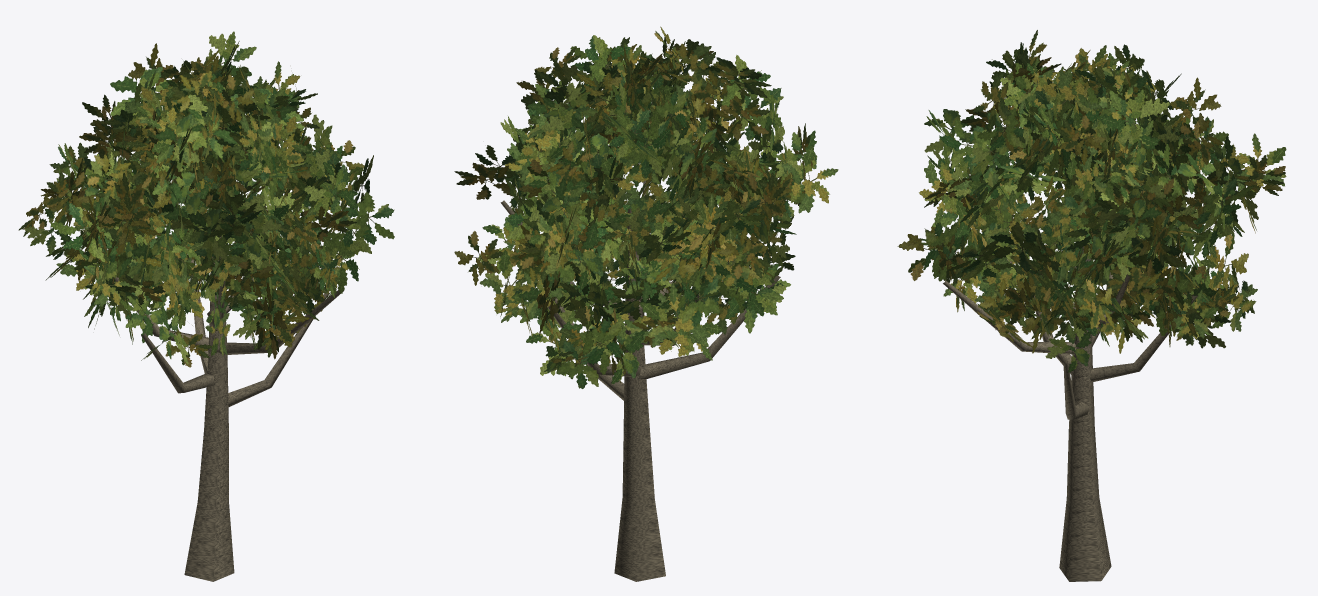
The model's file is PROJECT_Z_Temperate_Oak_Tree_LOD2.glb.
3 views of the same model, side by side, from view 1: azimuth 30°, elevation 25°; view 2: azimuth 150°, elevation 25°; view 3: azimuth 270°, elevation 25° (orthographic). The views are drawn at different scales.
Visible parts, largest first — view 1: LOD2_06_CanopySector_02_AlphaMasked, LOD2_05_CanopySector_01_AlphaMasked, LOD2_08_CanopySector_04_AlphaMasked, LOD2_01_Trunk_OakBark, LOD2_07_CanopySector_03_AlphaMasked, LOD2_03_PrimaryLimbs_07; view 2: LOD2_08_CanopySector_04_AlphaMasked, LOD2_07_CanopySector_03_AlphaMasked, LOD2_06_CanopySector_02_AlphaMasked, LOD2_01_Trunk_OakBark, LOD2_05_CanopySector_01_AlphaMasked, LOD2_03_PrimaryLimbs_07; view 3: LOD2_07_CanopySector_03_AlphaMasked, LOD2_05_CanopySector_01_AlphaMasked, LOD2_06_CanopySector_02_AlphaMasked, LOD2_08_CanopySector_04_AlphaMasked, LOD2_01_Trunk_OakBark, LOD2_03_PrimaryLimbs_07.
Boxes of the visible parts, x1,y1,x2,y2 form: LOD2_06_CanopySector_02_AlphaMasked: [81, 71, 287, 367]; LOD2_05_CanopySector_01_AlphaMasked: [198, 65, 394, 357]; LOD2_08_CanopySector_04_AlphaMasked: [18, 60, 210, 327]; LOD2_01_Trunk_OakBark: [184, 236, 234, 581]; LOD2_07_CanopySector_03_AlphaMasked: [126, 31, 364, 310]; LOD2_03_PrimaryLimbs_07: [114, 190, 343, 406]; LOD2_08_CanopySector_04_AlphaMasked: [544, 53, 796, 388]; LOD2_07_CanopySector_03_AlphaMasked: [454, 35, 651, 377]; LOD2_06_CanopySector_02_AlphaMasked: [635, 26, 838, 334]; LOD2_01_Trunk_OakBark: [614, 209, 665, 581]; LOD2_05_CanopySector_01_AlphaMasked: [513, 36, 720, 286]; LOD2_03_PrimaryLimbs_07: [500, 180, 780, 400]; LOD2_07_CanopySector_03_AlphaMasked: [1062, 58, 1283, 353]; LOD2_05_CanopySector_01_AlphaMasked: [919, 57, 1111, 372]; LOD2_06_CanopySector_02_AlphaMasked: [897, 30, 1102, 289]; LOD2_08_CanopySector_04_AlphaMasked: [1056, 44, 1286, 336]; LOD2_01_Trunk_OakBark: [1059, 246, 1111, 581]; LOD2_03_PrimaryLimbs_07: [943, 206, 1197, 419].
Size of the model in its own units: 7.55 by 11.47 by 8.11.
2 materials, 2 textured.
